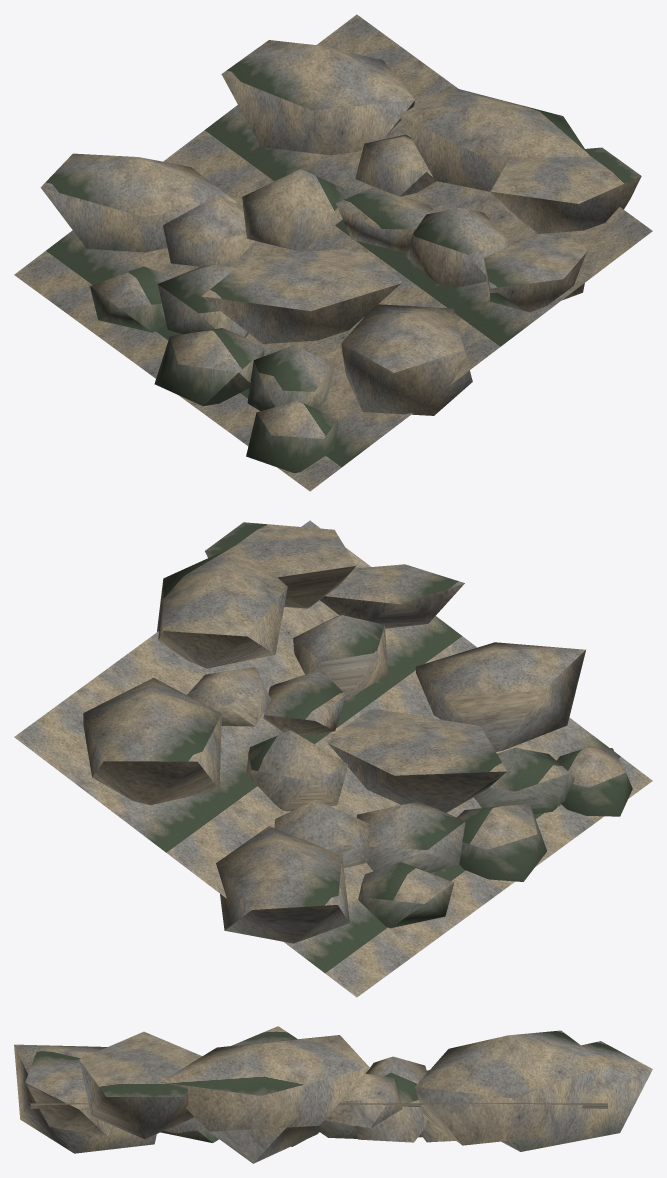
The model's file is SM_Molo_Scogliera_A_v2_LOD1.fbx.
The picture shows the model from 3 angles, top to bottom: view 1: azimuth 30°, elevation 25°; view 2: azimuth 150°, elevation 25°; view 3: azimuth 270°, elevation 25°; orthographic projection. The views are drawn at different scales.
Parts seen in each view (by area): view 1: SM_Molo_Scogliera_A_v2_LOD1; view 2: SM_Molo_Scogliera_A_v2_LOD1; view 3: SM_Molo_Scogliera_A_v2_LOD1.
Boxes of the visible parts, x1,y1,x2,y2 form: SM_Molo_Scogliera_A_v2_LOD1: (14,14,652,491); SM_Molo_Scogliera_A_v2_LOD1: (14,520,652,997); SM_Molo_Scogliera_A_v2_LOD1: (14,1026,652,1163).
Bounding box in the file's own units: 654 × 940 × 353.
1 material, 1 textured.
